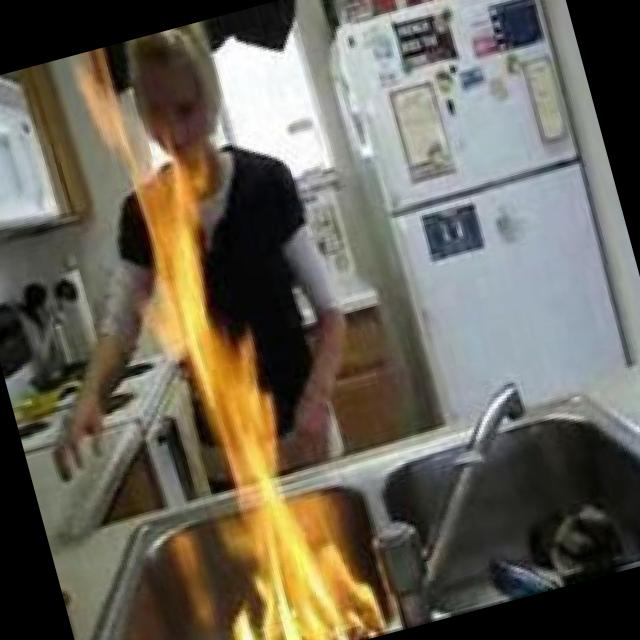Fire: (106, 132, 391, 640)
